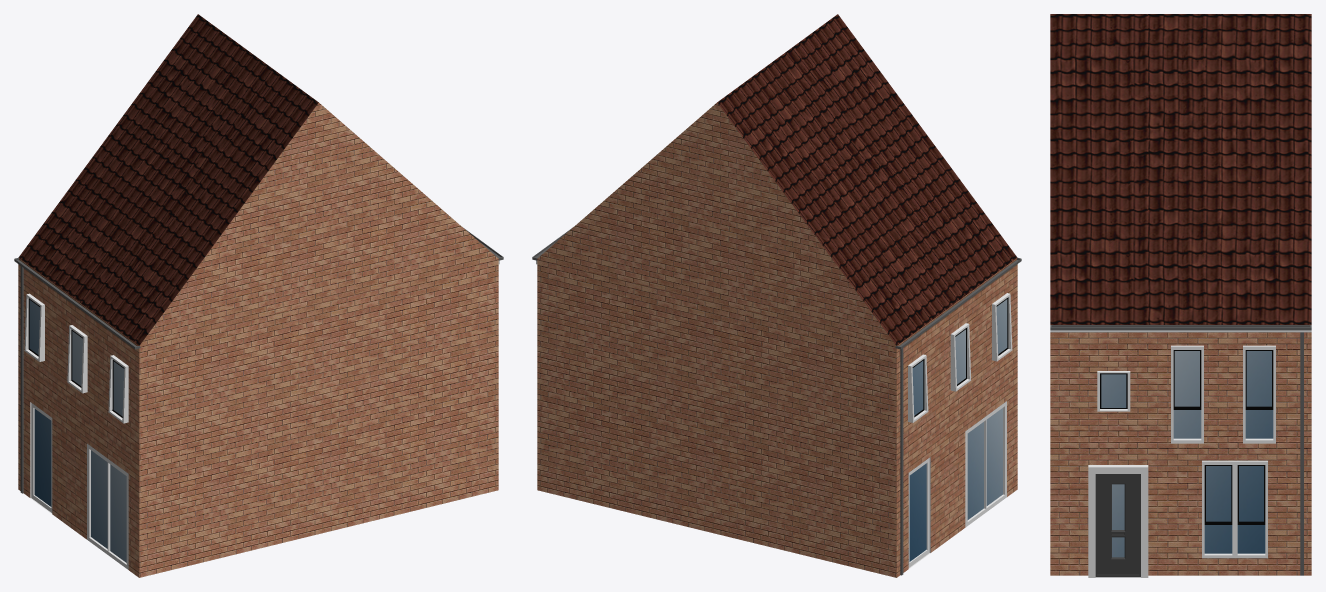
Rendered from Woning_39723_A3.fbx.
The picture shows the model from 3 angles, left to right: view 1: azimuth 30°, elevation 25°; view 2: azimuth 150°, elevation 25°; view 3: azimuth 270°, elevation 25°; orthographic projection. The views are drawn at different scales.
Visible parts, largest first — view 1: Woning_39723_A3; view 2: Woning_39723_A3; view 3: Woning_39723_A3.
Part boxes in pixels (x1,y1,x2,y2): Woning_39723_A3: (14, 14, 503, 577); Woning_39723_A3: (532, 14, 1021, 577); Woning_39723_A3: (1050, 14, 1311, 577).
Bounding box in the file's own units: 9.59 × 10.7 × 5.43.
